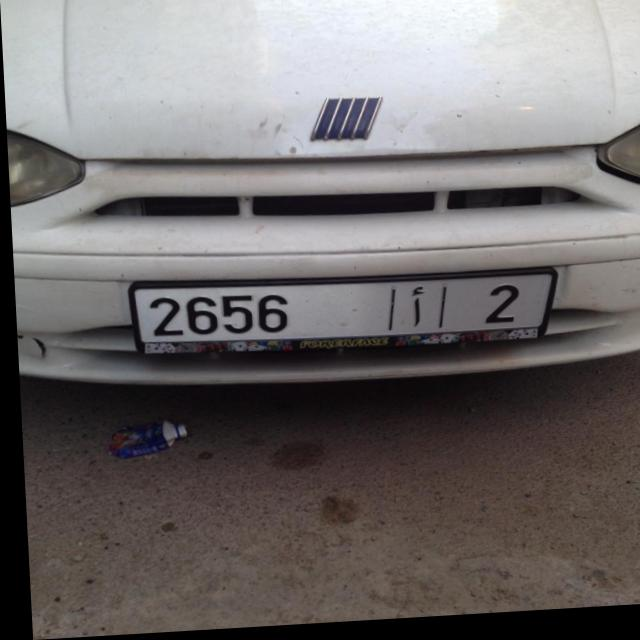License-Plate: (125, 276, 551, 356)
